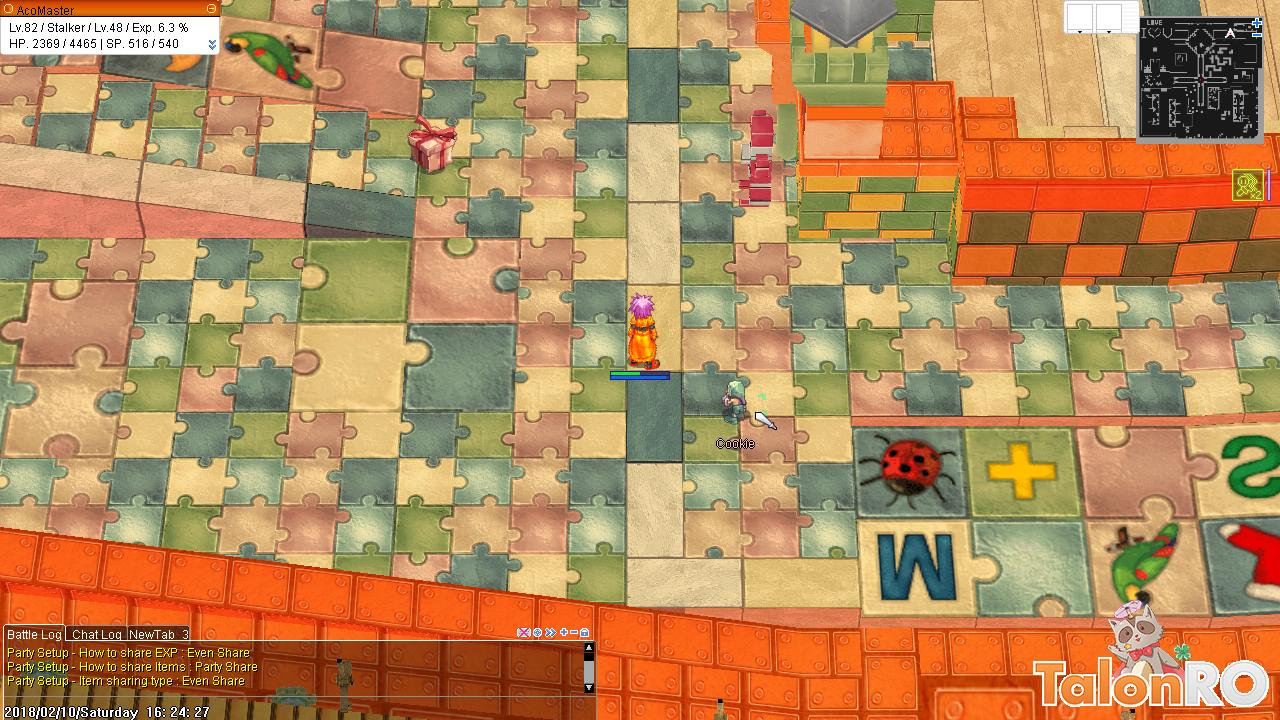myst_case: (405, 107, 459, 183)
